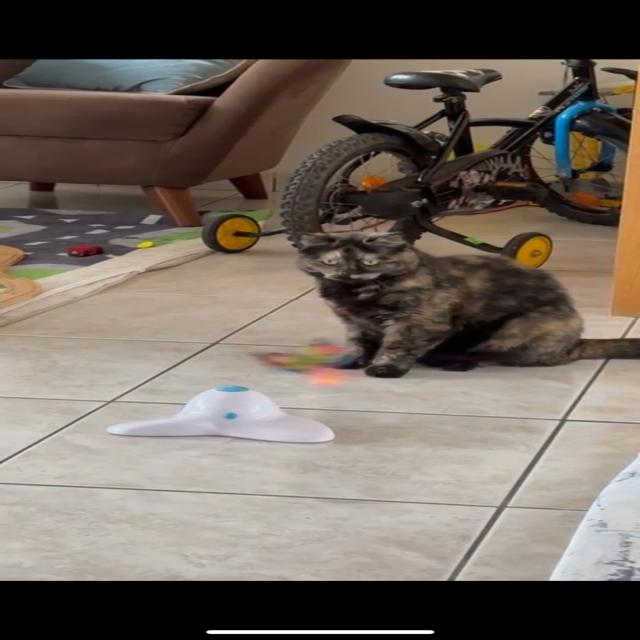authorized: (292, 230, 638, 378)
